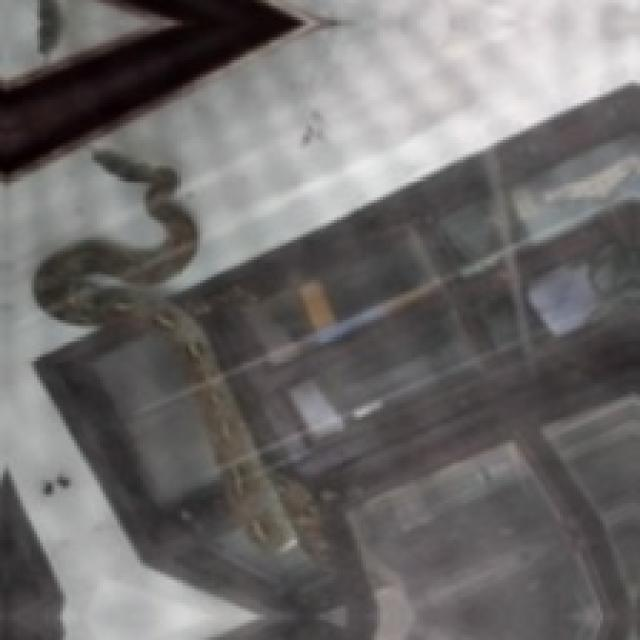reticulated python: (34, 151, 294, 551)
